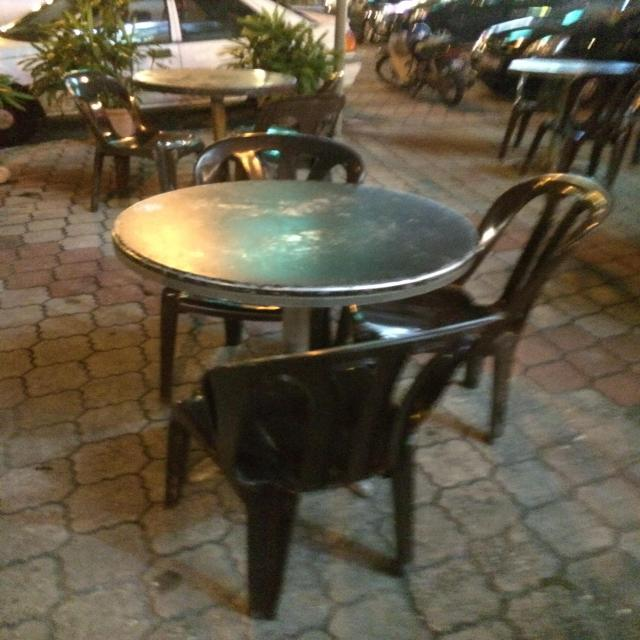Table: (87, 179, 469, 386), (133, 36, 308, 146)
chair: (156, 273, 544, 639), (450, 157, 640, 403), (27, 38, 146, 182), (181, 120, 361, 204), (549, 45, 640, 163)
